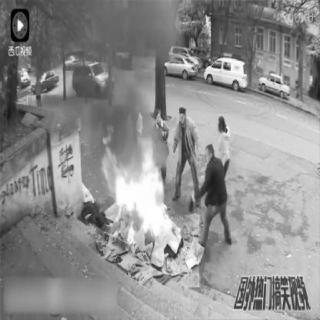Fire: (92, 120, 208, 268)
